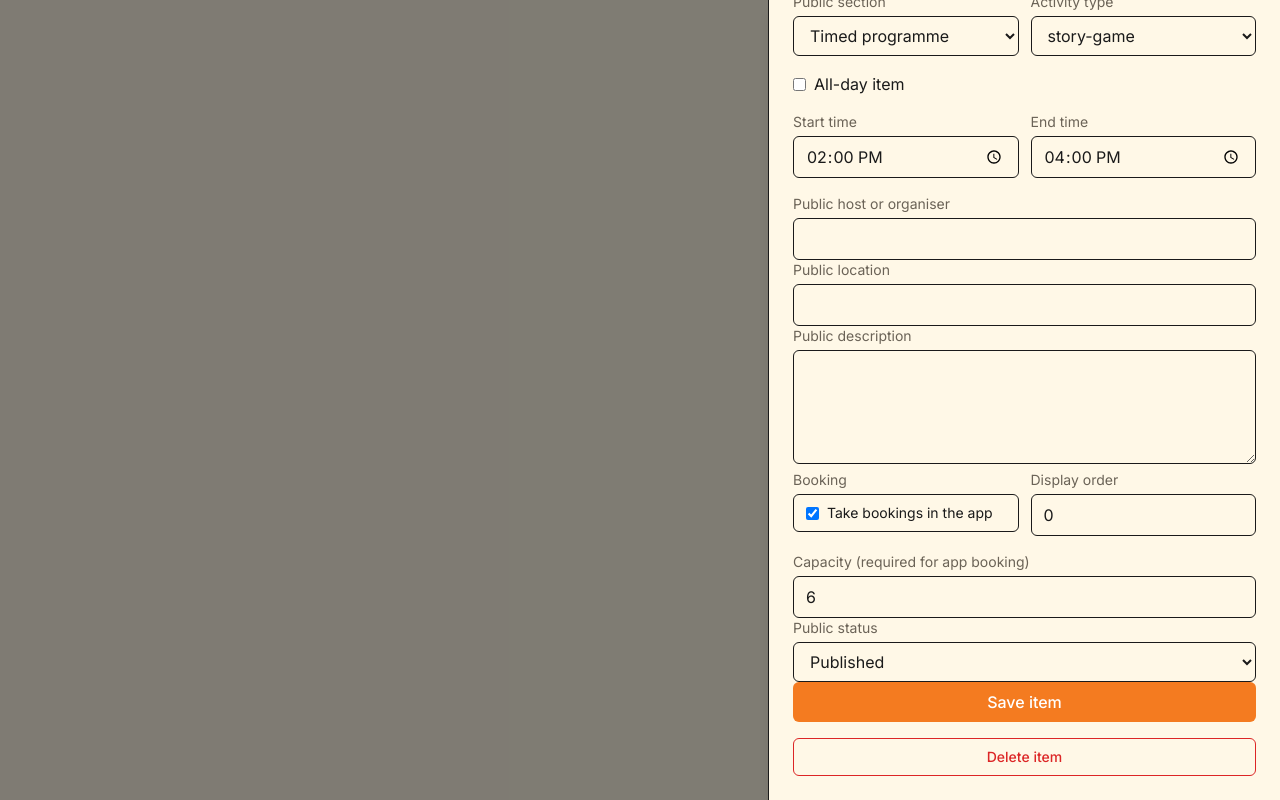
Test case: deletes an item after confirming, then offers a rebuild
(page scrolled)
Step 1. Click the button "Delete item" → click(1024, 757), box left=793, top=738, right=1256, bottom=776
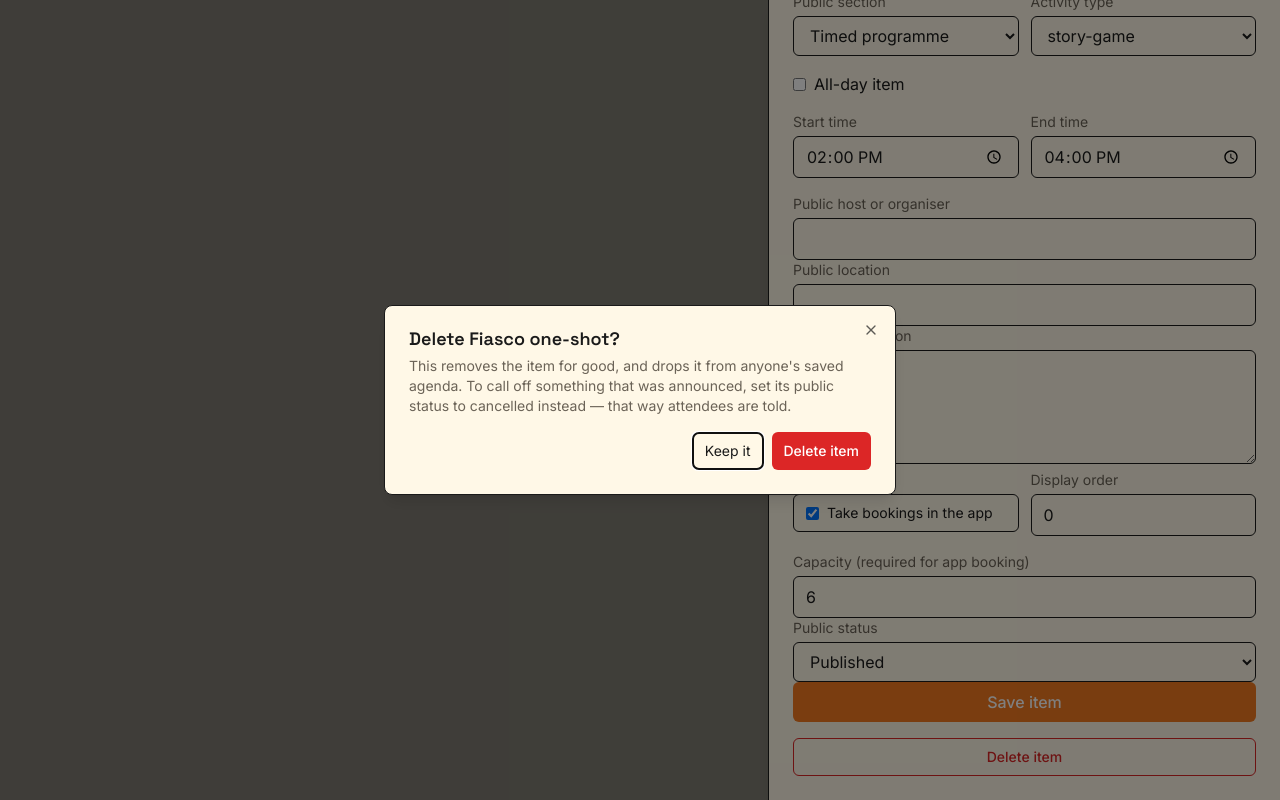
Step 2. Click the button "Delete item" → click(821, 451), box left=772, top=432, right=871, bottom=470
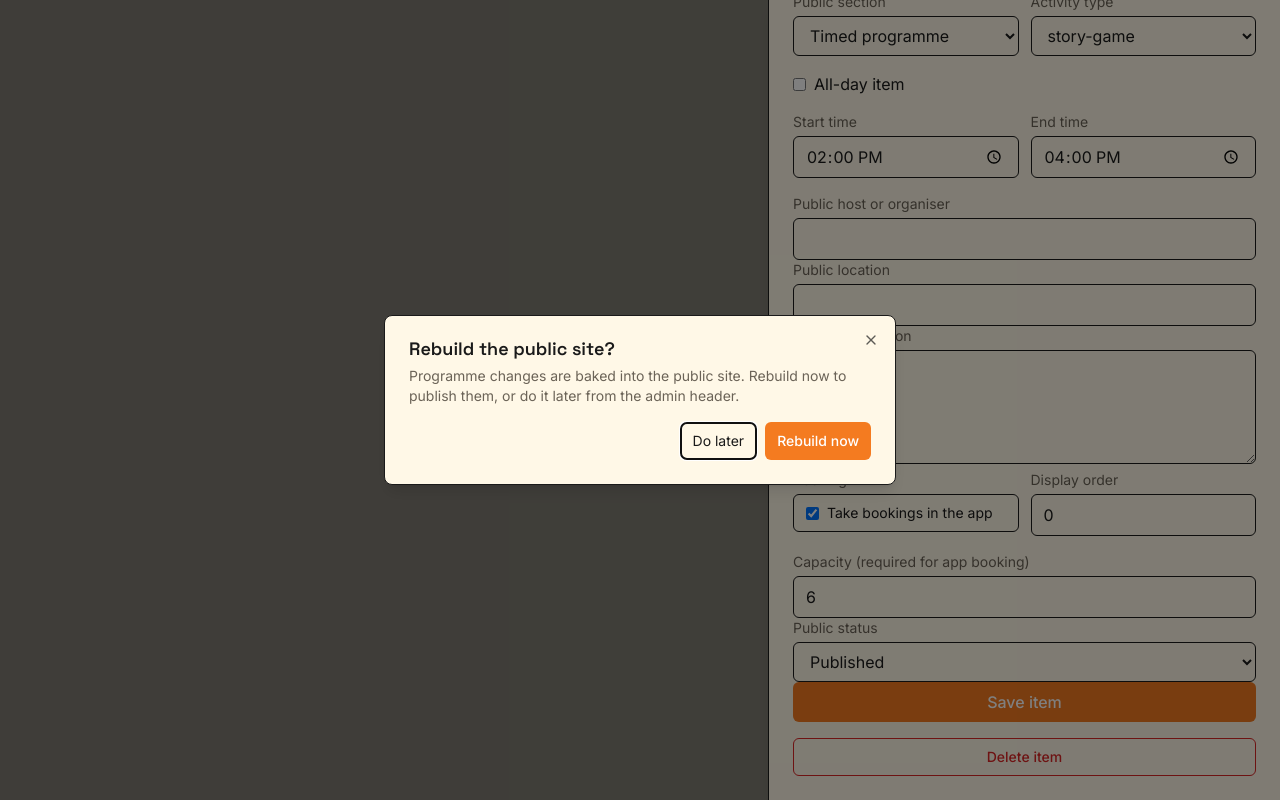
Result: the heading "Rebuild the public site?" is shown at left=409, top=337, right=615, bottom=360
